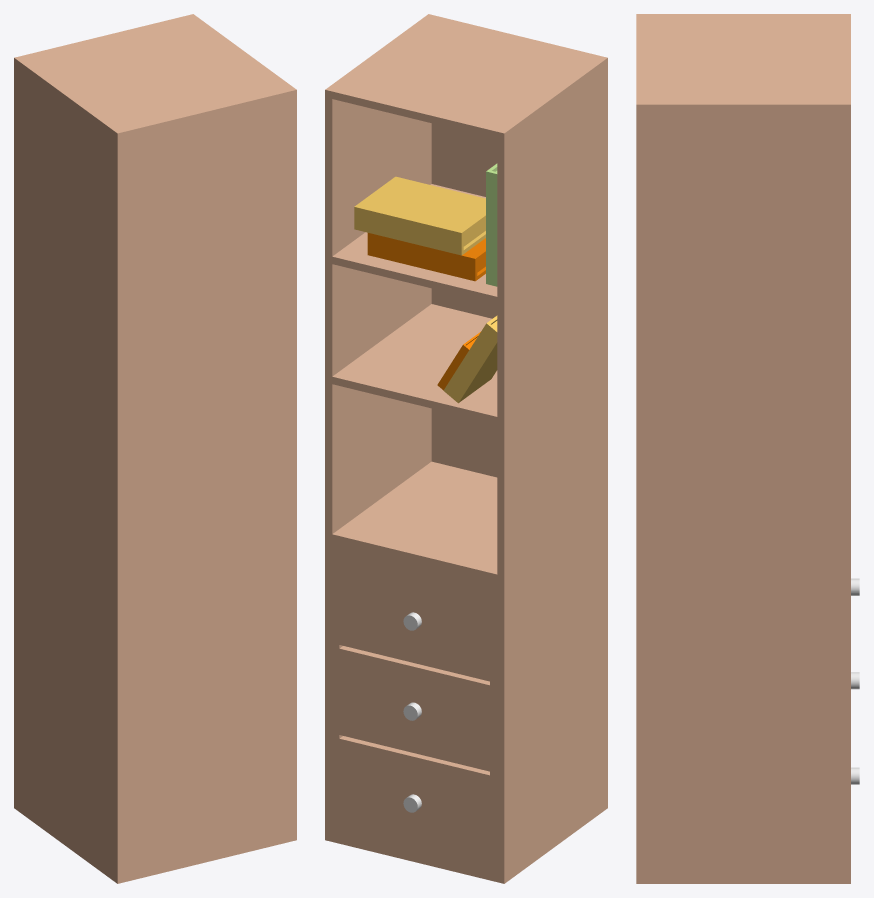
File: books.glb
3 renders of one model, left to right at view 1: azimuth 30°, elevation 25°; view 2: azimuth 150°, elevation 25°; view 3: azimuth 270°, elevation 25°, orthographic. The views are drawn at different scales.
Parts seen in each view (by area): view 1: libros; view 2: libros; view 3: libros.
Part boxes in pixels (x1,y1,x2,y2): libros: (14,14,296,883); libros: (325,14,607,883); libros: (636,14,859,883).
Bounding box in the file's own units: 50 × 200 × 52.
